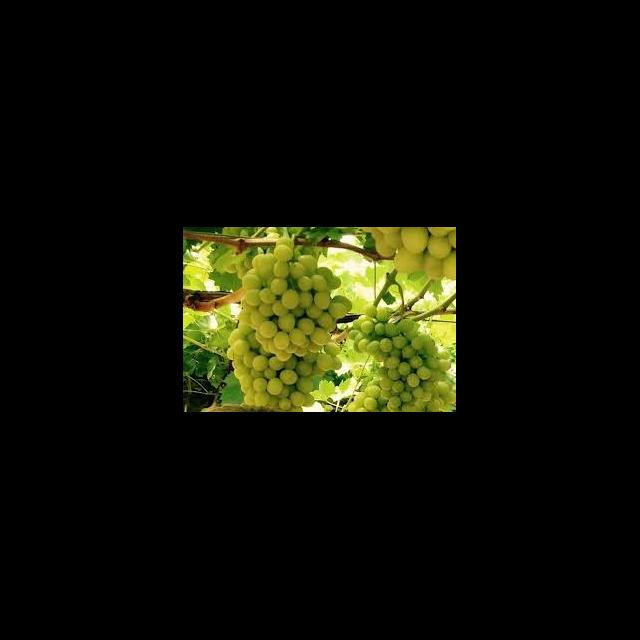grape: (226, 232, 352, 412), (346, 304, 456, 412), (362, 228, 456, 280)
